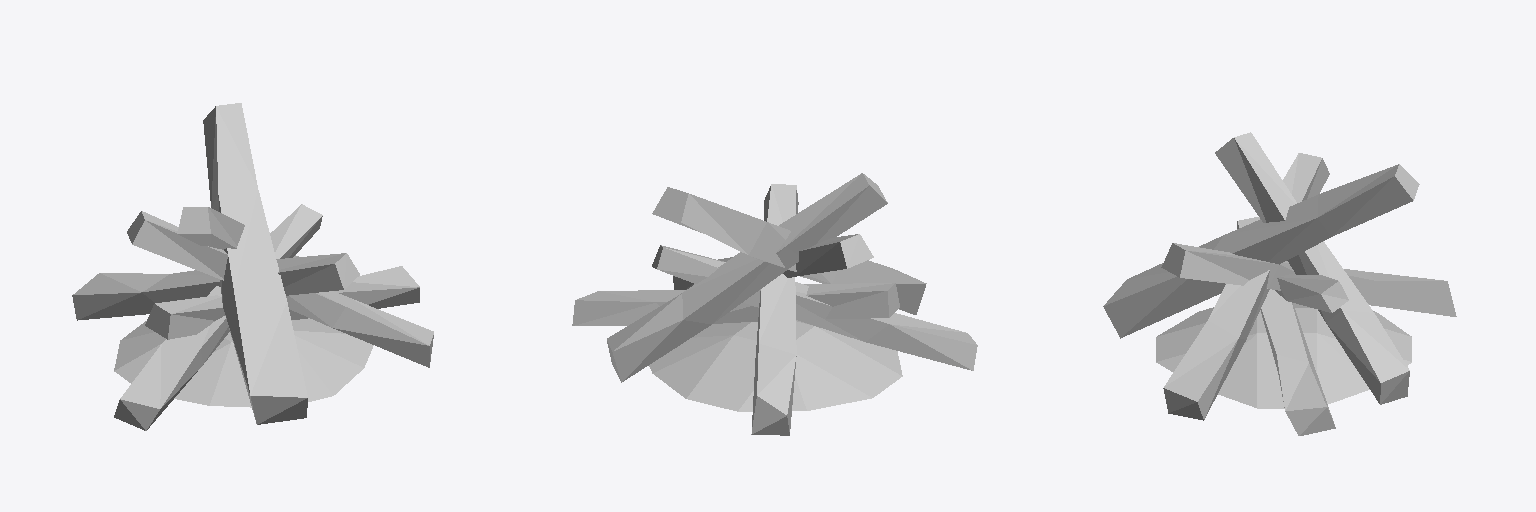
File: CampFire.obj
3 renders of one model, left to right at view 1: azimuth 30°, elevation 25°; view 2: azimuth 150°, elevation 25°; view 3: azimuth 270°, elevation 25°, orthographic.
Parts seen in each view (by area): view 1: Cube_Cube.001; view 2: Cube_Cube.001; view 3: Cube_Cube.001.
Boxes of the visible parts, x1=… form: Cube_Cube.001: x1=72, y1=103, x2=433, y2=430; Cube_Cube.001: x1=572, y1=173, x2=977, y2=435; Cube_Cube.001: x1=1103, y1=132, x2=1456, y2=435.
Bounding box in the file's own units: 1.81 × 1.01 × 1.6.